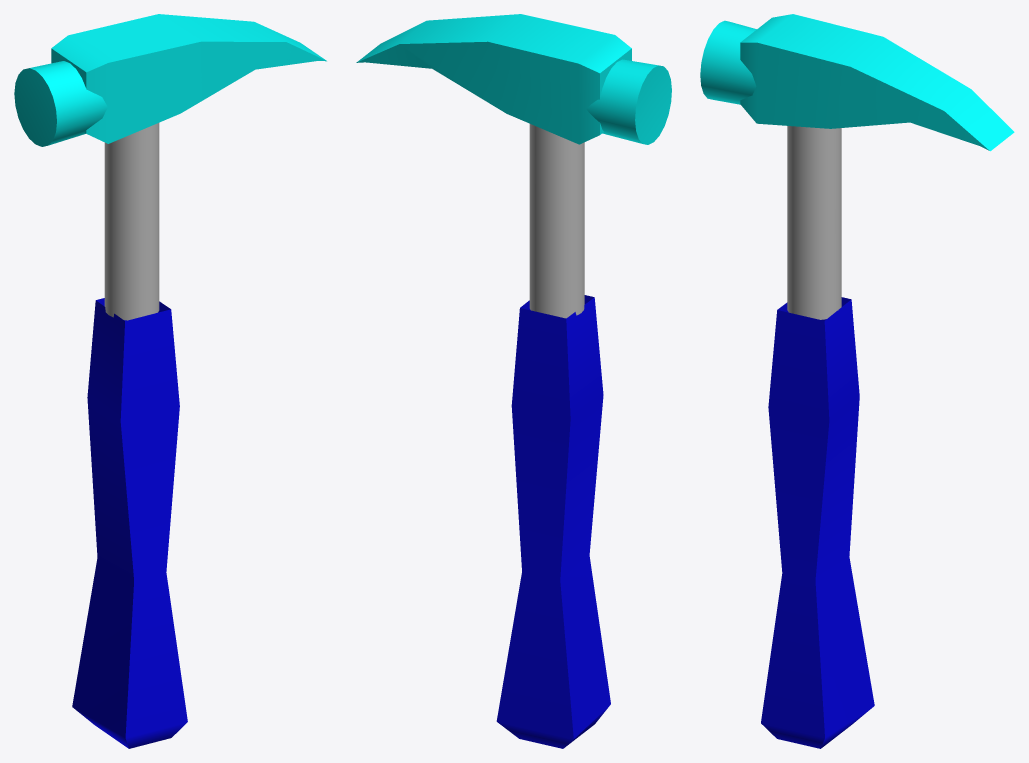
The model's file is realhammer.obj.
3 renders of one model, left to right at view 1: azimuth 30°, elevation 25°; view 2: azimuth 150°, elevation 25°; view 3: azimuth 330°, elevation 25°, orthographic.
Visible parts, largest first — view 1: pCube1 group3, pCube6, group3 pCylinder1, group3 pCylinder2; view 2: pCube1 group3, pCube6, group3 pCylinder1, group3 pCylinder2; view 3: pCube1 group3, pCube6, group3 pCylinder1, group3 pCylinder2.
Part boxes in pixels (x1=…): pCube1 group3: x1=72, y1=298, x2=187, y2=748; pCube6: x1=51, y1=14, x2=326, y2=143; group3 pCylinder1: x1=104, y1=123, x2=159, y2=320; group3 pCylinder2: x1=14, y1=61, x2=107, y2=146; pCube1 group3: x1=496, y1=295, x2=610, y2=748; pCube6: x1=356, y1=14, x2=631, y2=144; group3 pCylinder1: x1=529, y1=124, x2=584, y2=318; group3 pCylinder2: x1=586, y1=59, x2=671, y2=144; pCube1 group3: x1=761, y1=297, x2=874, y2=748; pCube6: x1=740, y1=14, x2=1014, y2=151; group3 pCylinder1: x1=787, y1=126, x2=841, y2=319; group3 pCylinder2: x1=700, y1=20, x2=756, y2=104.
Size of the model in its own units: 15.12 by 35.24 by 4.28.
